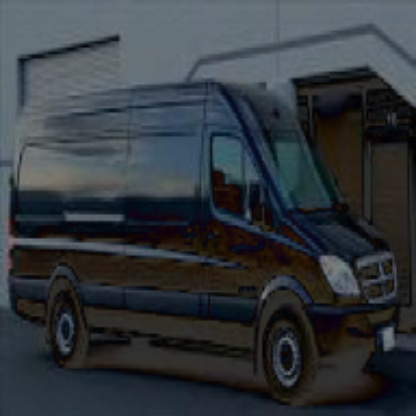Vehicle: (8, 72, 400, 413)
